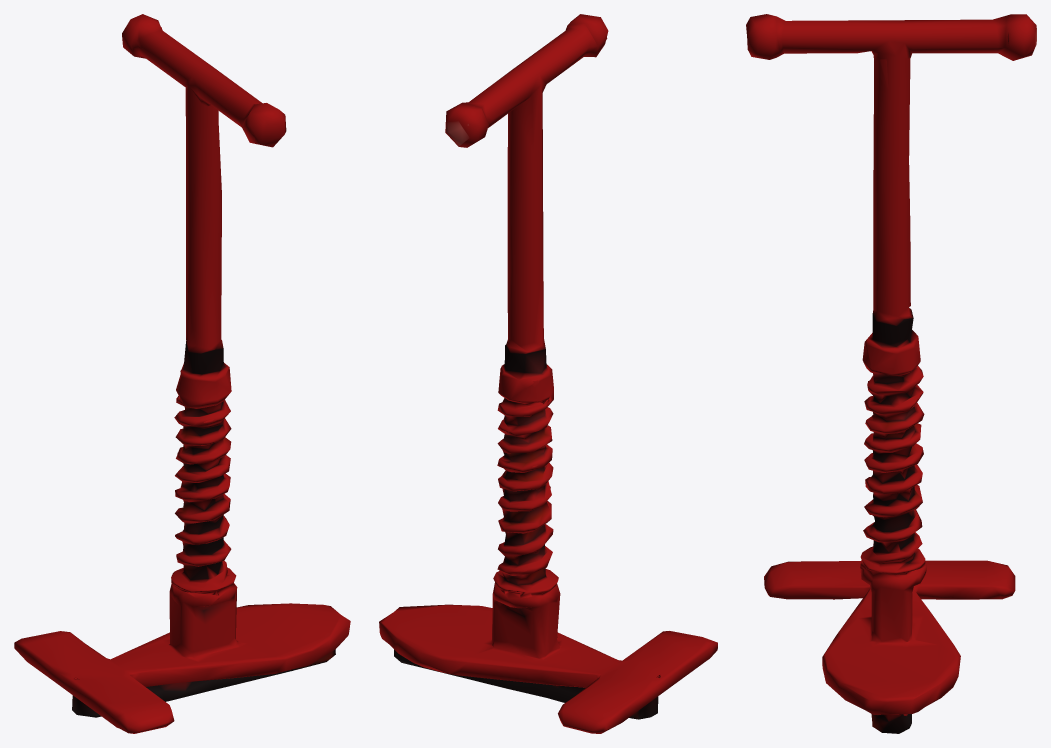
File: gen3d-pogo-stick-lod0.glb
3 views of the same model, side by side, from view 1: azimuth 30°, elevation 25°; view 2: azimuth 150°, elevation 25°; view 3: azimuth 270°, elevation 25° (orthographic). The views are drawn at different scales.
Parts seen in each view (by area): view 1: part_0; view 2: part_0; view 3: part_0.
Boxes of the visible parts, x1=… form: part_0: x1=14, y1=14, x2=350, y2=733; part_0: x1=379, y1=14, x2=717, y2=733; part_0: x1=746, y1=14, x2=1036, y2=733.
Bounding box in the file's own units: 0.4601 × 0.9991 × 0.4038.
